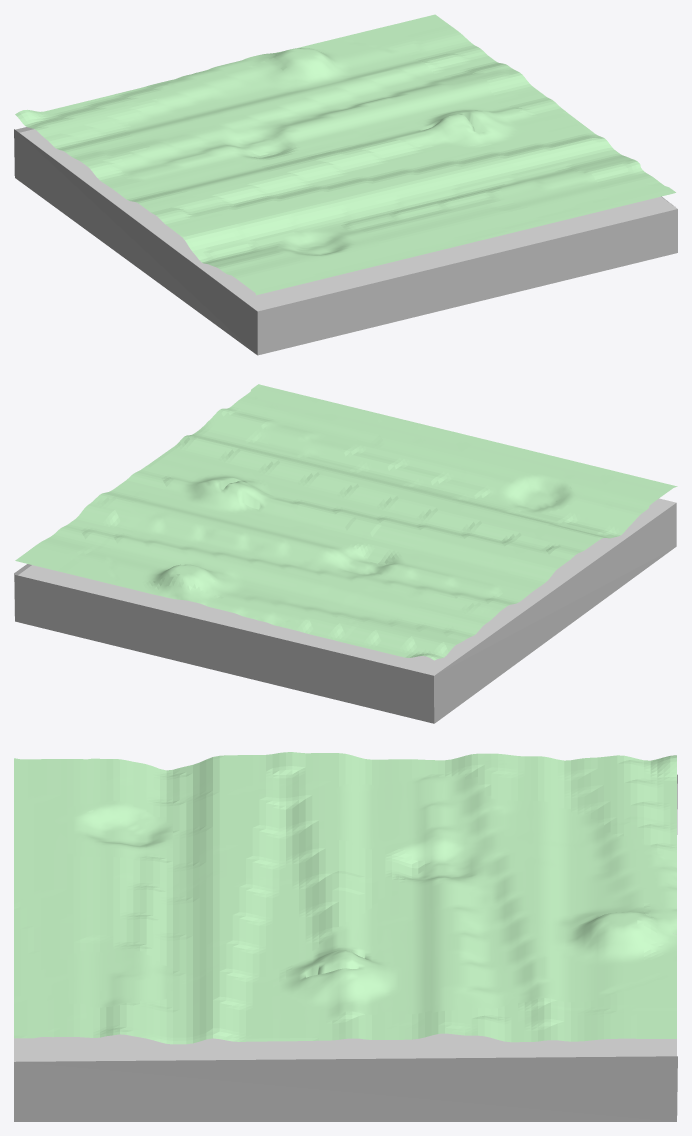
Rendered from map6.dae.
The picture shows the model from 3 angles, top to bottom: view 1: azimuth 30°, elevation 25°; view 2: azimuth 150°, elevation 25°; view 3: azimuth 270°, elevation 25°; orthographic projection. The views are drawn at different scales.
Visible parts, largest first — view 1: group_0.002, SketchUp; view 2: group_0.002, SketchUp; view 3: group_0.002, SketchUp.
Boxes of the visible parts, x1=… form: group_0.002: x1=15, y1=14, x2=675, y2=295; SketchUp: x1=14, y1=127, x2=677, y2=355; group_0.002: x1=15, y1=384, x2=677, y2=660; SketchUp: x1=14, y1=498, x2=676, y2=723; group_0.002: x1=14, y1=752, x2=676, y2=1044; SketchUp: x1=14, y1=774, x2=677, y2=1121.
Size of the model in its own units: 20.09 by 20.03 by 3.36.
